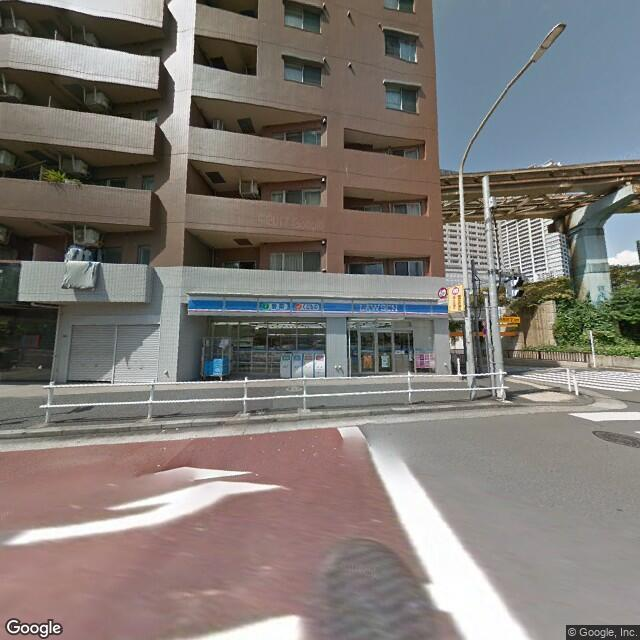lawson: (184, 289, 451, 321)
